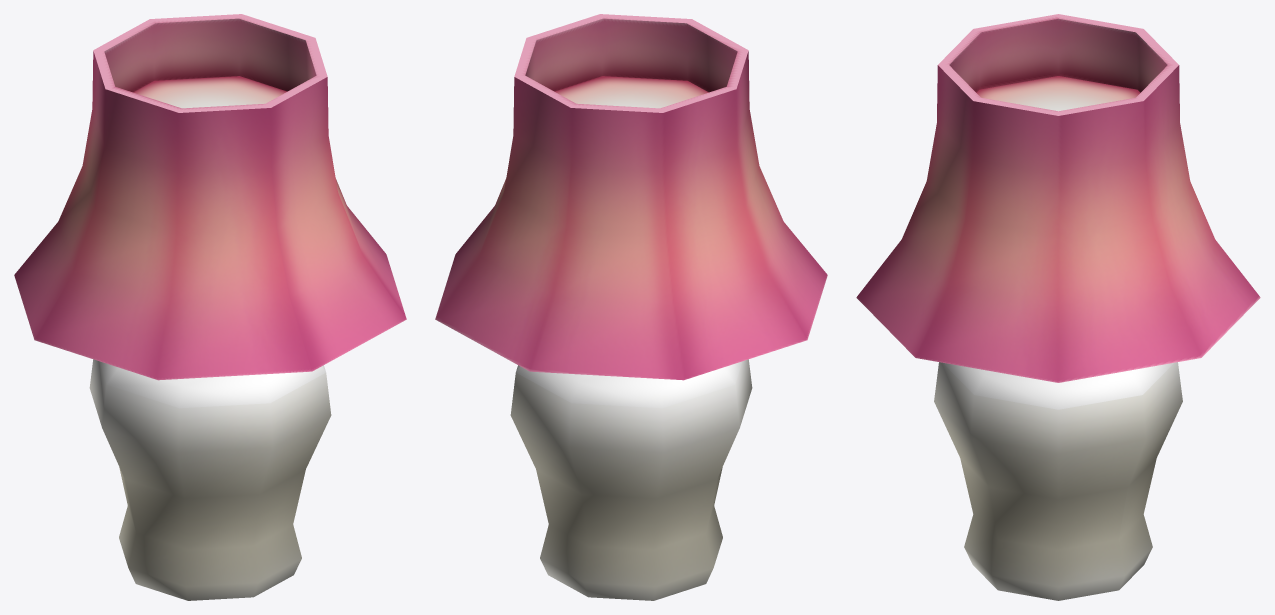
The model's file is ENV2010079.fbx.
The picture shows the model from 3 angles, left to right: view 1: azimuth 30°, elevation 25°; view 2: azimuth 150°, elevation 25°; view 3: azimuth 270°, elevation 25°; orthographic projection.
Parts seen in each view (by area): view 1: smENV2010079; view 2: smENV2010079; view 3: smENV2010079.
Part boxes in pixels (<box>): smENV2010079: <box>14,14,406,600</box>; smENV2010079: <box>435,14,827,600</box>; smENV2010079: <box>856,14,1260,600</box>.
Bounding box in the file's own units: 21.68 × 29.9 × 21.68.
Materials: 1 (1 with a texture image).
